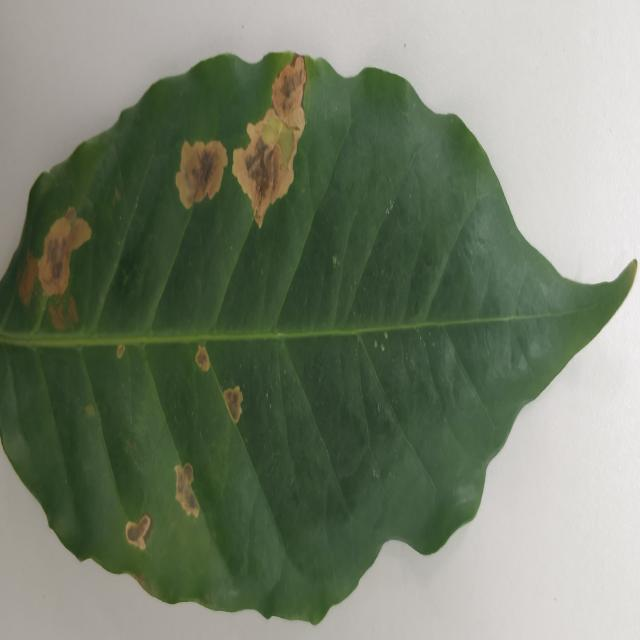Plaga-Minador: (0, 52, 640, 627)
